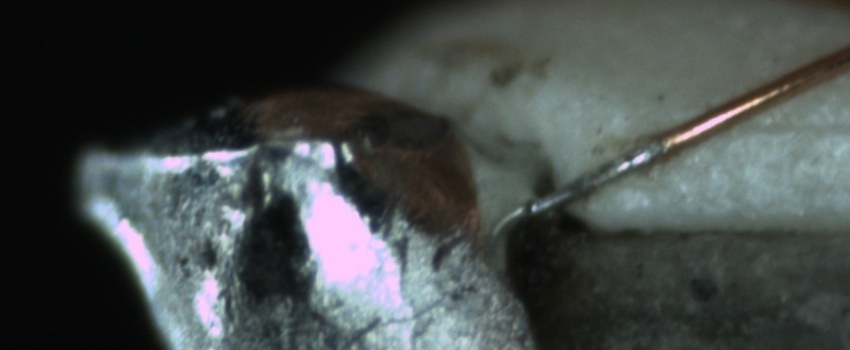DL: (747, 91, 849, 163)
TS: (523, 142, 667, 216)
